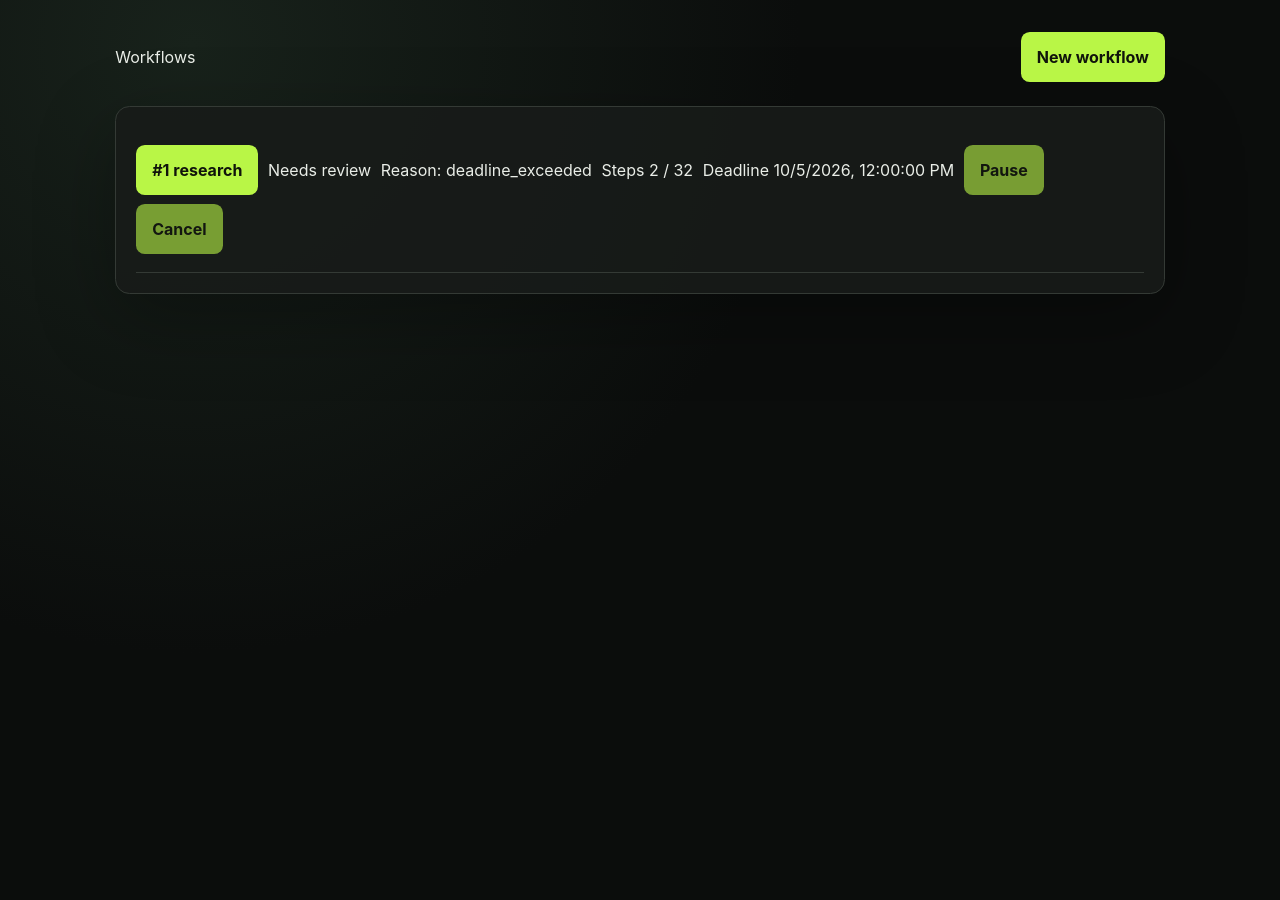
Scenario: WorkflowsPage › surfaces recovery guidance for a workflow that needs attention
This screenshot has width=1280, height=900.
Click the button "#1 research" at coordinates (197, 170), box [136,145,258,195]
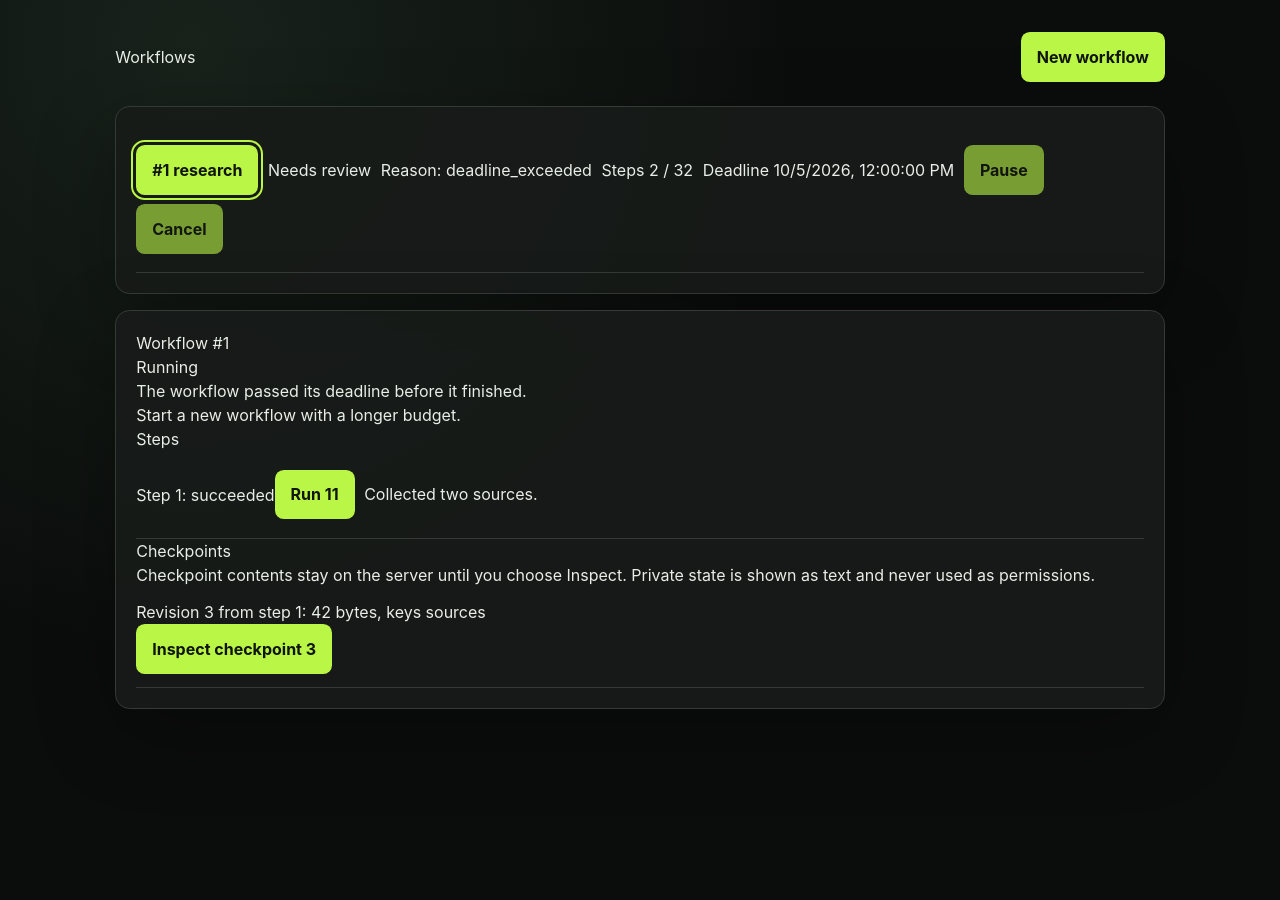
Expected: the text "The workflow passed its deadline before it finished." is shown, [136,381,526,401]
Expected: the text "Start a new workflow with a longer budget." is shown, [136,405,461,425]
